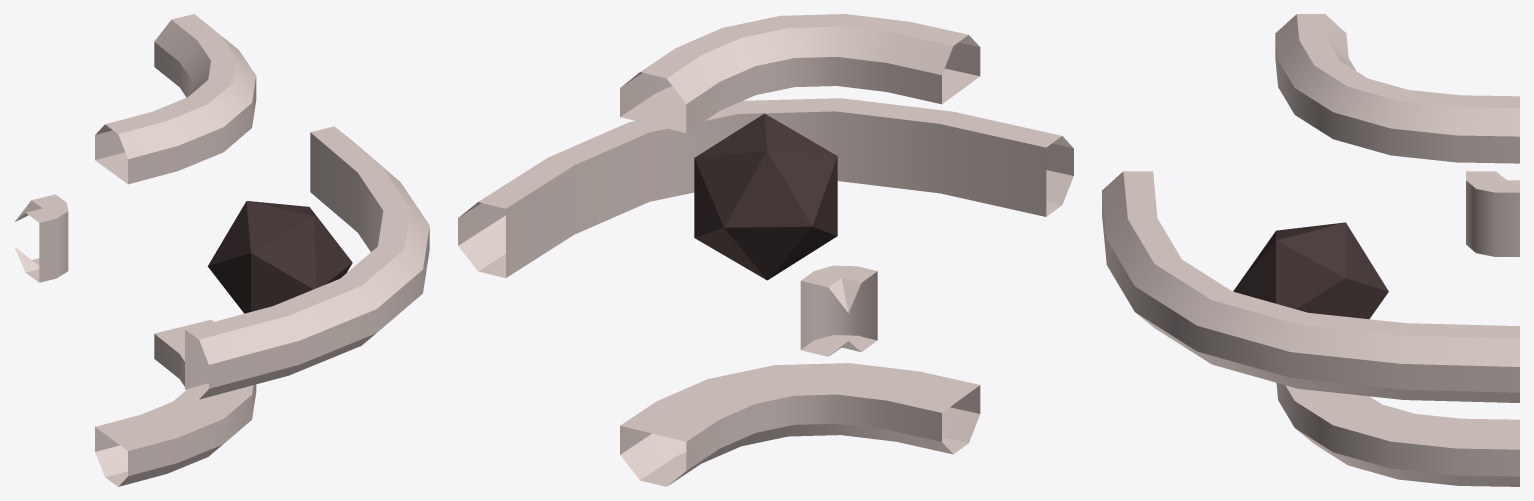
The model's file is Env_SetP_SpaceStation_ReactorPipingCorner_1x1.fbx.
3 renders of one model, left to right at view 1: azimuth 30°, elevation 25°; view 2: azimuth 150°, elevation 25°; view 3: azimuth 270°, elevation 25°, orthographic. The views are drawn at different scales.
Visible parts, largest first — view 1: PipeCorner; view 2: PipeCorner; view 3: PipeCorner.
Part boxes in pixels (bbox=[...]): PipeCorner: bbox=[14, 14, 429, 486]; PipeCorner: bbox=[458, 14, 1073, 486]; PipeCorner: bbox=[1102, 14, 1519, 486].
Bounding box in the file's own units: 100 × 100 × 100.
